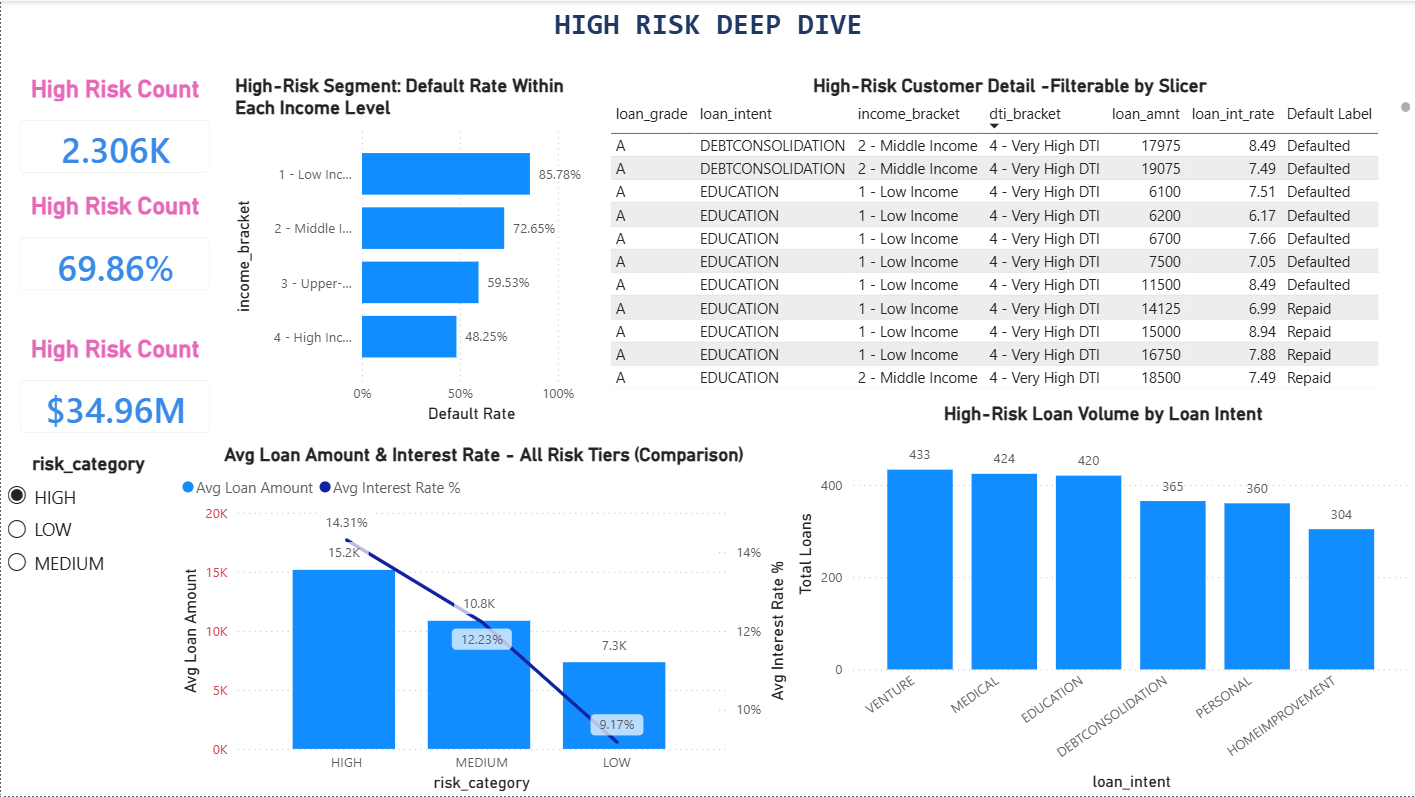

This screenshot's page, from the dashboard's own definition file:
{"tool":"powerbi","page":{"name":"High Risk Deep Dive","canvas":[1280,720],"ordinal":4},"visuals":[{"type":"cardVisual","title":"High Risk Count","fields":{"Data":["credit_risk_segmented.High Risk Count"]},"box":[0,66.7,206.7,106.7],"z":0},{"type":"cardVisual","title":"High Risk Count","fields":{"Data":["credit_risk_segmented.High Risk Default Rate %"]},"box":[0,173.3,206.7,106.7],"z":1000},{"type":"cardVisual","title":"High Risk Count","fields":{"Data":["credit_risk_segmented.Total Exposure"]},"box":[0,301.7,206.7,106.7],"z":2000},{"type":"textbox","box":[0,0,1280,66.7],"z":3000},{"type":"columnChart","title":"High-Risk Loan Volume by Loan Intent","fields":{"Category":["credit_risk_segmented.loan_intent"],"Y":["credit_risk_segmented.Total Loans"]},"box":[715,363.3,565,356.7],"z":4000},{"type":"lineClusteredColumnComboChart","title":"Avg Loan Amount & Interest Rate - All Risk Tiers (Comparison)","fields":{"Category":["credit_risk_segmented.risk_category"],"Y":["credit_risk_segmented.Avg Loan Amount"],"Y2":["credit_risk_segmented.Avg Interest Rate %"]},"box":[158.3,400,556.7,320],"z":5000},{"type":"listSlicer","fields":{"Values":["credit_risk_segmented.risk_category"]},"box":[0,408.3,158.3,311.7],"z":6000},{"type":"tableEx","title":"High-Risk Customer Detail -Filterable by Slicer","fields":{"Values":["credit_risk_segmented.loan_grade","credit_risk_segmented.loan_intent","credit_risk_segmented.income_bracket","credit_risk_segmented.dti_bracket","credit_risk_segmented.loan_amnt","credit_risk_segmented.loan_int_rate","credit_risk_segmented.Default Label"]},"box":[545,66.7,735,288.3],"z":7000},{"type":"clusteredBarChart","title":"High-Risk Segment: Default Rate Within Each Income Level","fields":{"Category":["credit_risk_segmented.income_bracket"],"Y":["credit_risk_segmented.Default Rate"]},"box":[206.7,66.7,338.3,320],"z":8000}]}

Visuals, with their boxes in screenshot pixels (x1, y1, x2, y2), scaled from the page's 1280x720 canvas onto the 1415x797 screenshot:
"High Risk Count" cardVisual: [0,74,229,192]
"High Risk Count" cardVisual: [0,192,229,310]
"High Risk Count" cardVisual: [0,334,229,452]
textbox: [0,0,1414,74]
"High-Risk Loan Volume by Loan Intent" columnChart: [790,402,1414,796]
"Avg Loan Amount & Interest Rate - All Risk Tiers (Comparison)" lineClusteredColumnComboChart: [175,443,790,796]
listSlicer - credit_risk_segmented.risk_category: [0,452,175,796]
"High-Risk Customer Detail -Filterable by Slicer" tableEx: [602,74,1414,393]
"High-Risk Segment: Default Rate Within Each Income Level" clusteredBarChart: [229,74,602,428]
